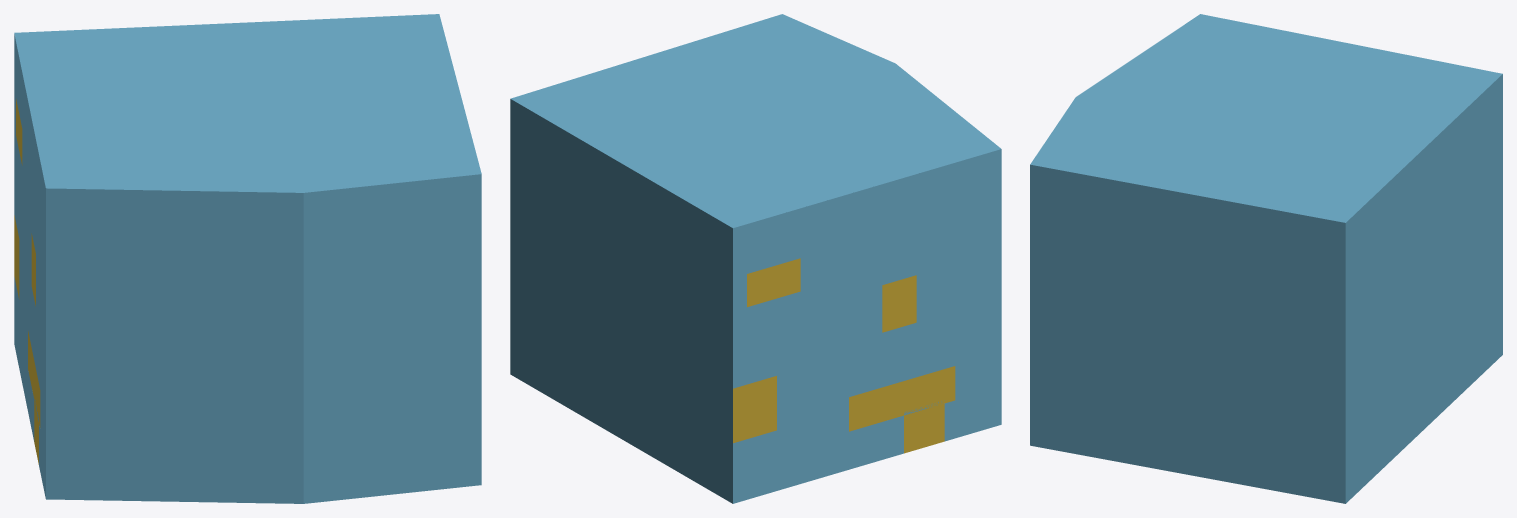
Rendered from bldg_3dedd858-6479-4990-9b62-14f746e5f3d0.obj.
3 views of the same model, side by side, from view 1: azimuth 30°, elevation 25°; view 2: azimuth 150°, elevation 25°; view 3: azimuth 270°, elevation 25° (orthographic). The views are drawn at different scales.
Bounding box in the file's own units: 12.36 × 7.75 × 11.82.
